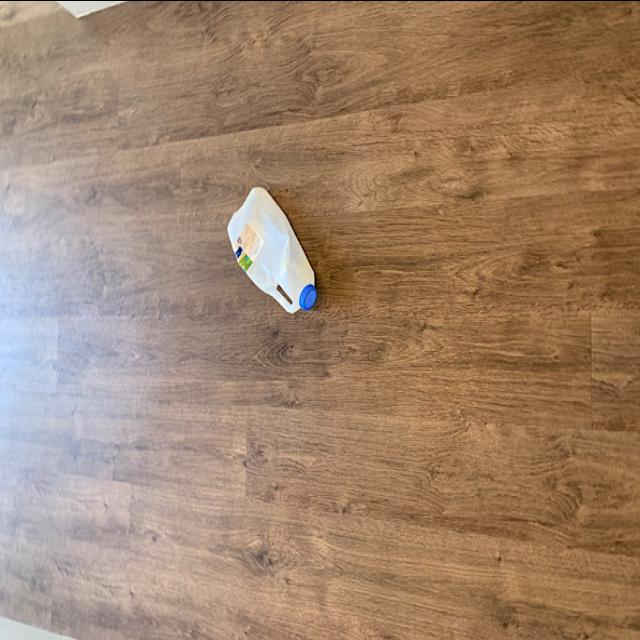HDPEM: (228, 179, 322, 315)
